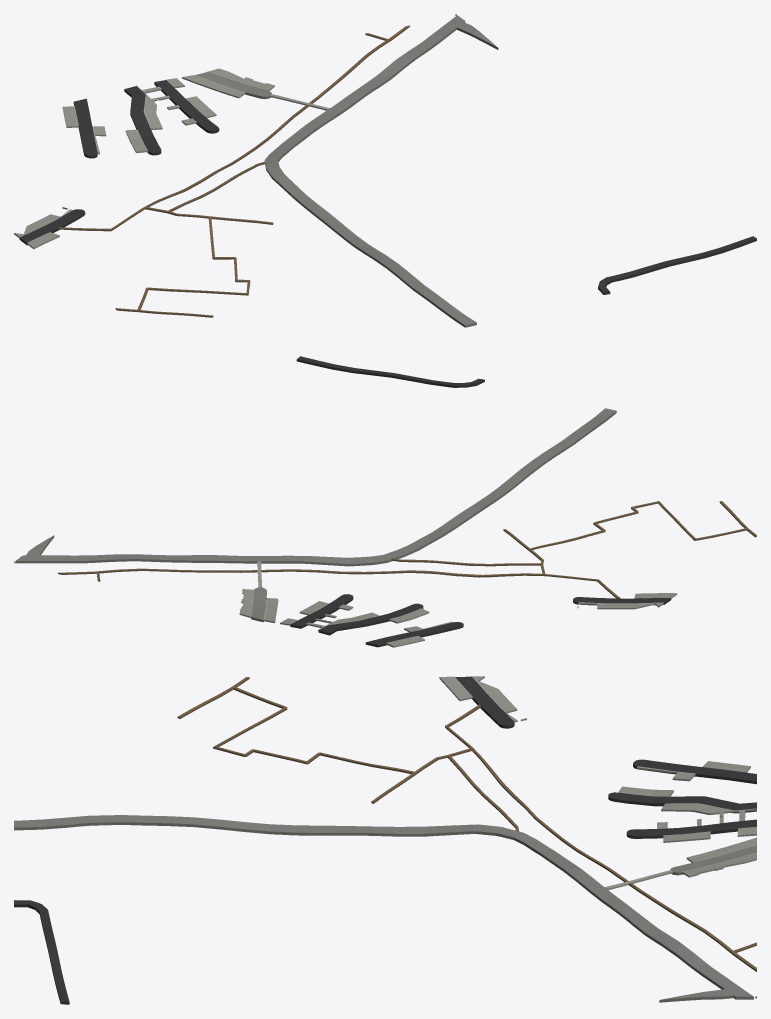
3 renders of one model, top to bottom at view 1: azimuth 30°, elevation 25°; view 2: azimuth 150°, elevation 25°; view 3: azimuth 270°, elevation 25°, orthographic. The views are drawn at different scales.
Bounding box in the file's own units: 293 × 7.45 × 291.
